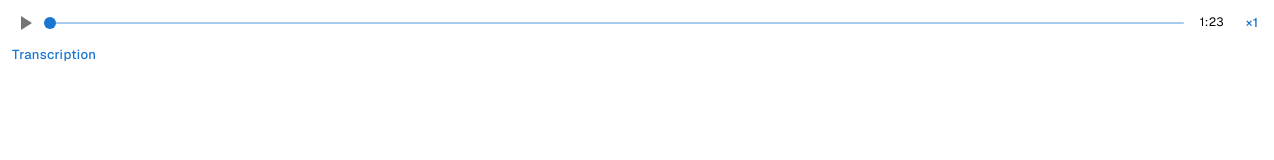
Test case: VoiceBubble › unfolds the transcript without voice tags
The image size is (1274, 160).
Click the button "Transcription" at (54, 55), box top-left (8, 40), bottom-right (100, 71)
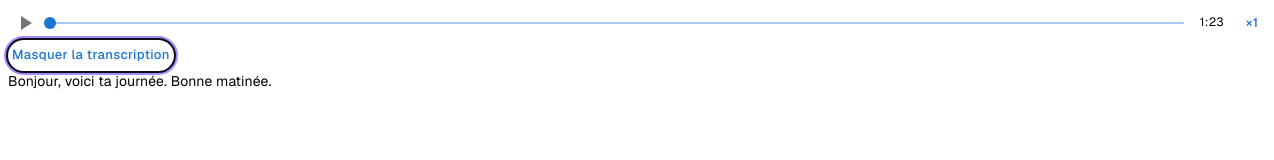
Expected: the text with test id "voice-transcript" reads "Bonjour, voici ta journée. Bonne matinée.", top-left (8, 72), bottom-right (272, 90)
